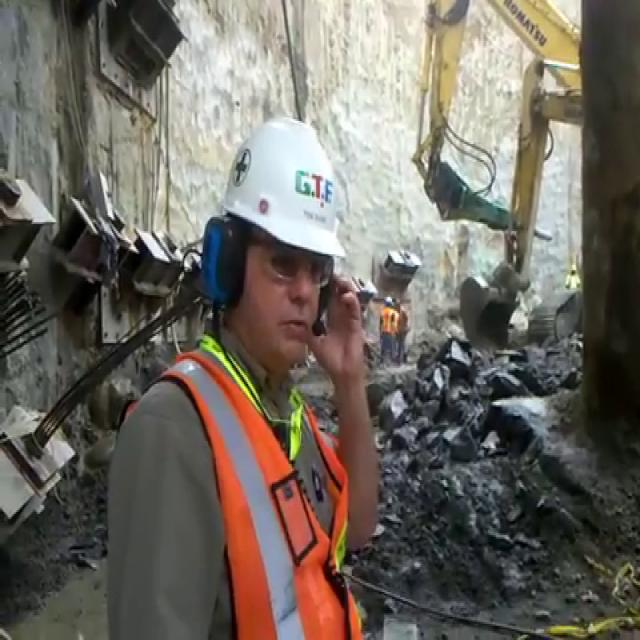earmuff: (196, 207, 250, 311)
glasses: (245, 229, 338, 292)
helmet: (220, 111, 348, 265)
